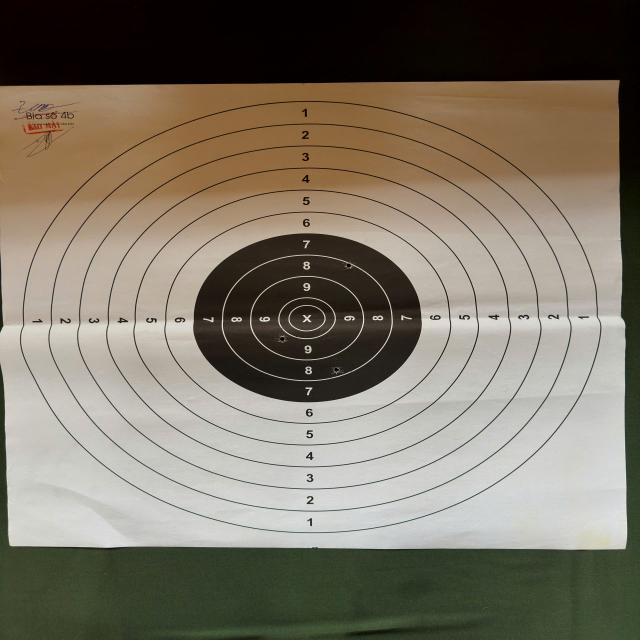bullet: (332, 367, 342, 373), (345, 263, 354, 269), (279, 336, 286, 342)
target: (0, 81, 626, 550)
